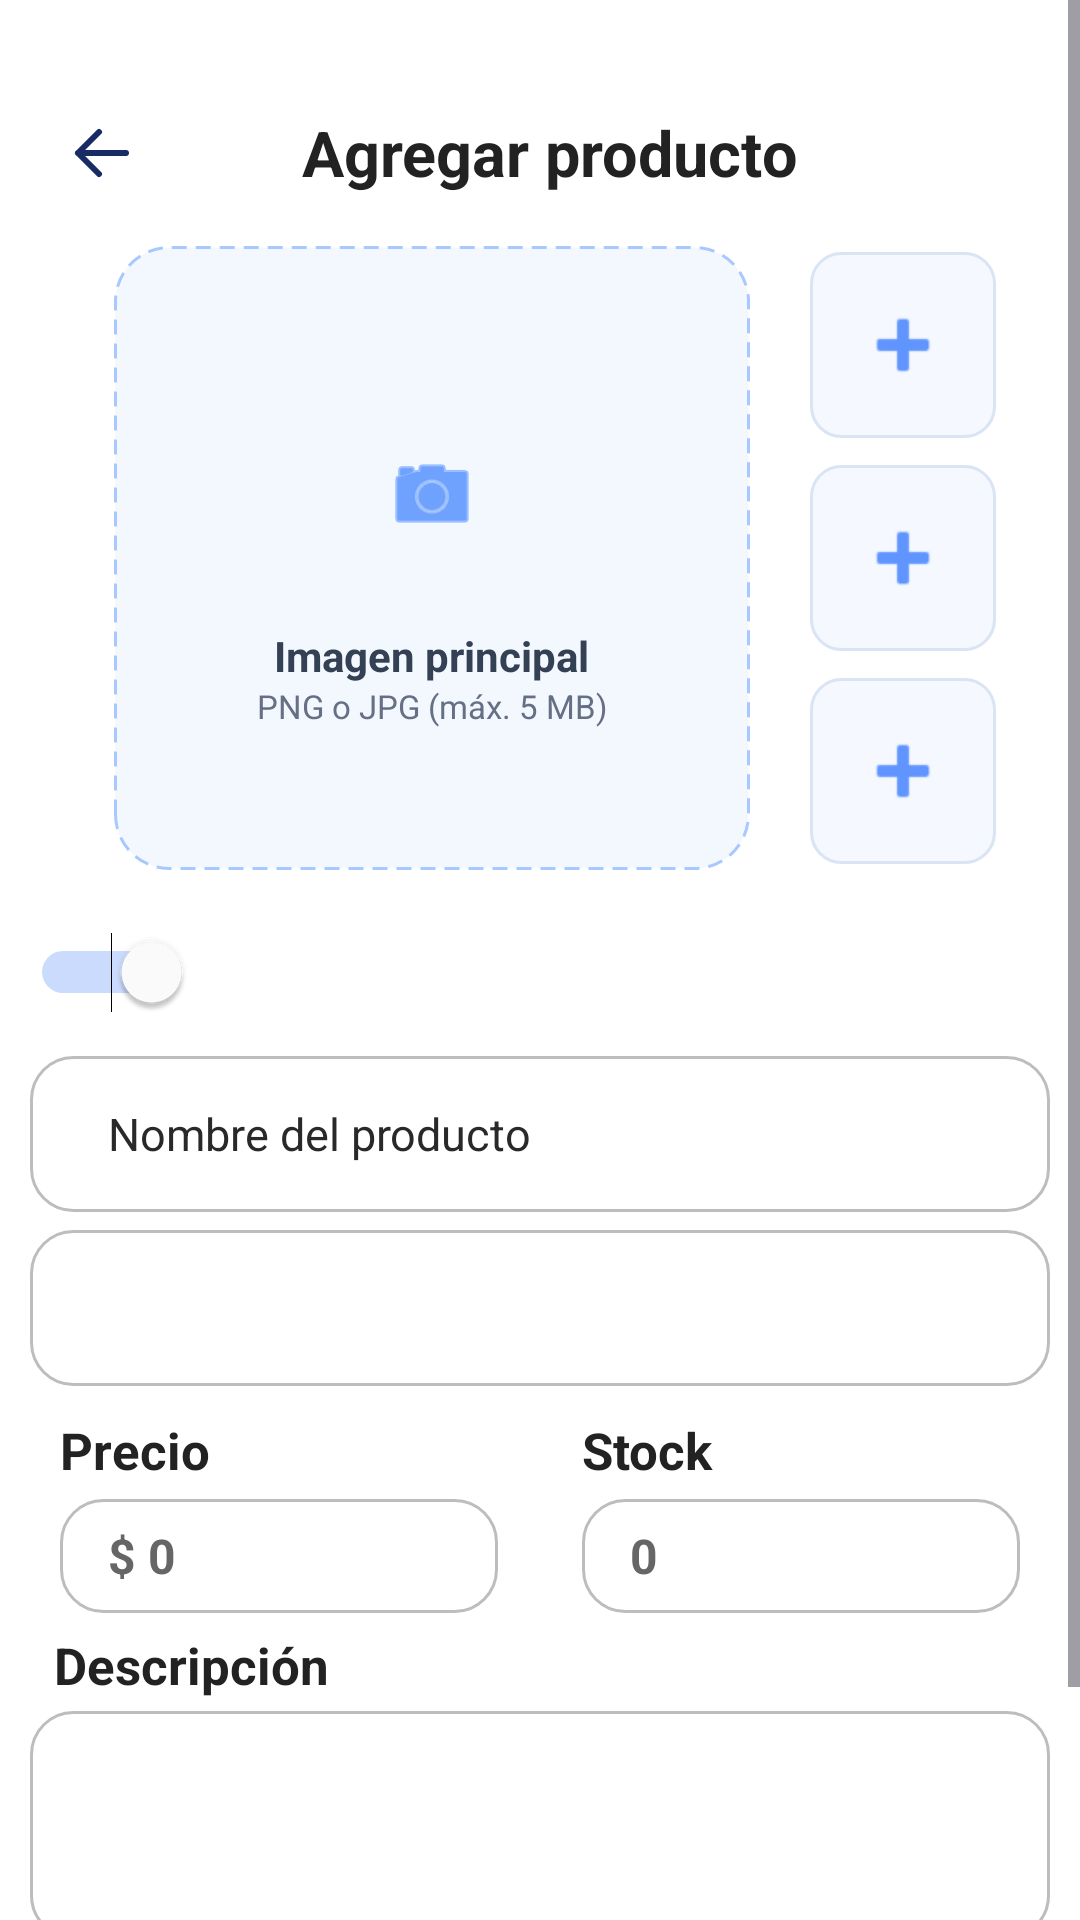

Icons on this 1080 × 1920 Android screen, each with the point to tap as point (x, y):
Volver: point (102, 153)
